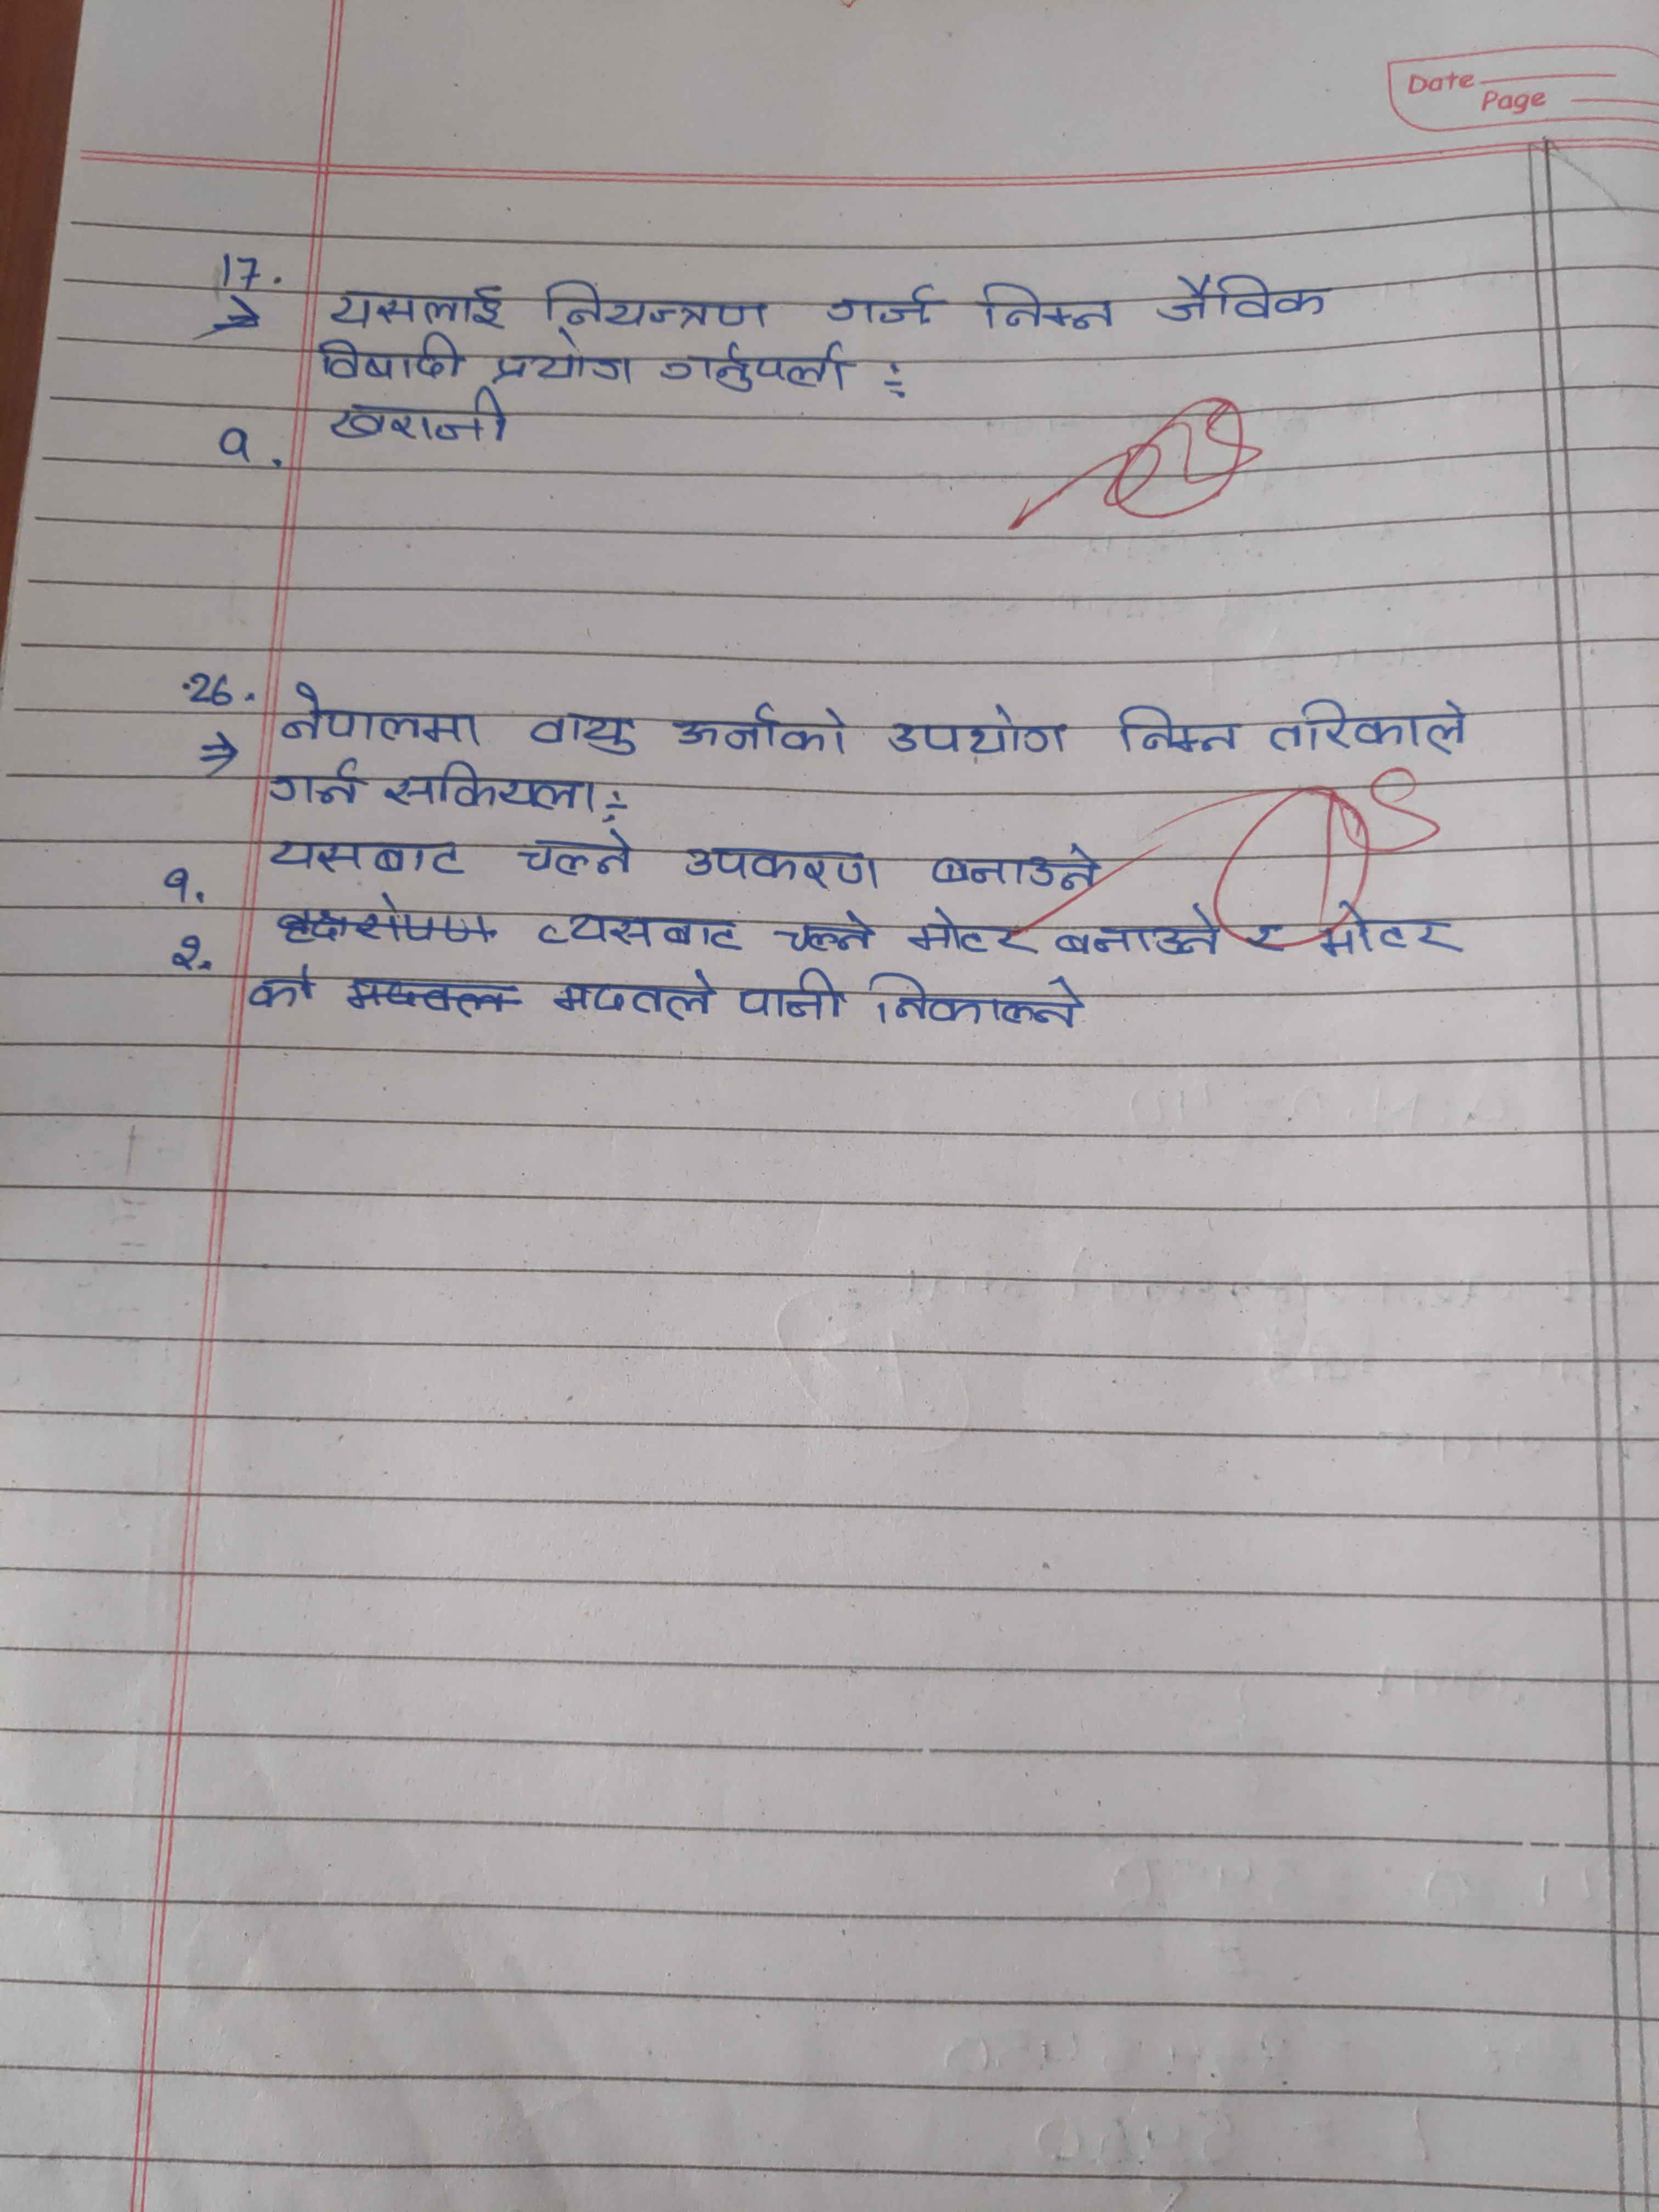text: (859, 967, 1087, 1036), (270, 681, 488, 752), (538, 275, 775, 334), (326, 385, 519, 451), (380, 759, 601, 817), (659, 336, 864, 397), (1270, 695, 1471, 756), (532, 909, 746, 965), (666, 698, 849, 756), (263, 834, 469, 885), (878, 707, 1075, 759), (924, 840, 1112, 894), (540, 967, 716, 1024), (1152, 268, 1333, 324), (967, 277, 1121, 341), (1051, 902, 1230, 956), (321, 280, 511, 331), (683, 845, 882, 892), (1314, 904, 1466, 963), (315, 329, 467, 387), (486, 333, 633, 390), (1115, 700, 1246, 761), (512, 826, 645, 883), (903, 906, 1039, 958), (732, 968, 849, 1026), (826, 280, 946, 329), (519, 707, 641, 752), (261, 759, 371, 808), (765, 914, 878, 956), (242, 961, 322, 1019), (159, 862, 221, 909), (164, 932, 220, 975), (211, 423, 261, 469)
